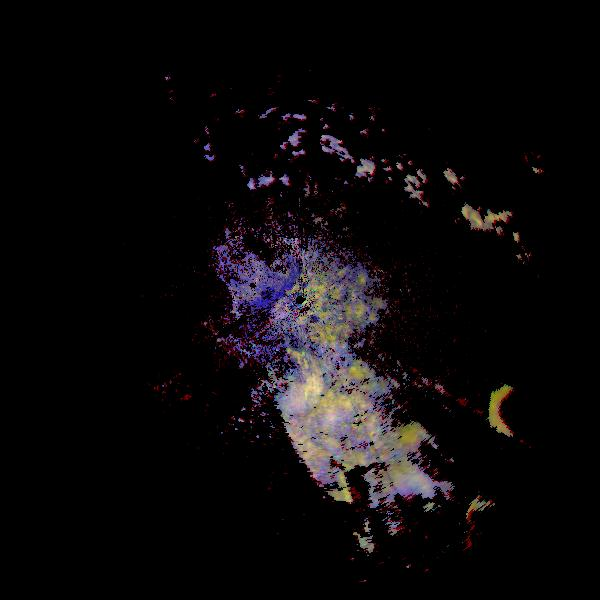roost: (475, 346, 600, 481), (378, 407, 489, 518), (450, 478, 540, 568), (261, 339, 336, 414)
